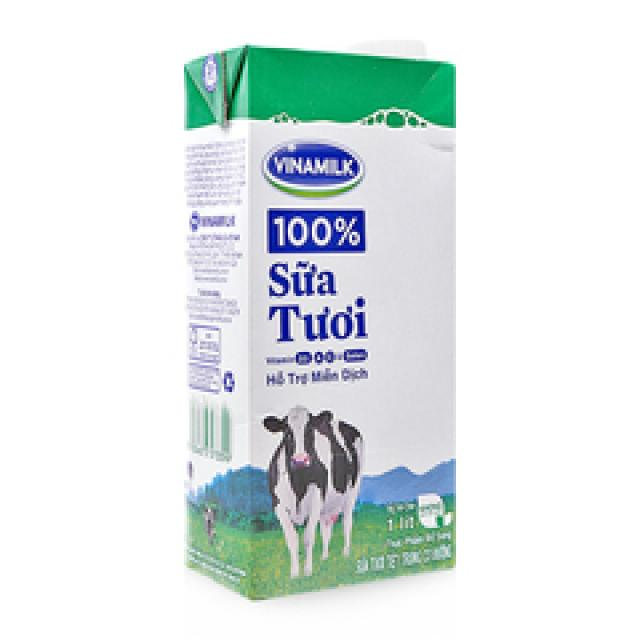non_white_jug: (166, 24, 470, 581)
